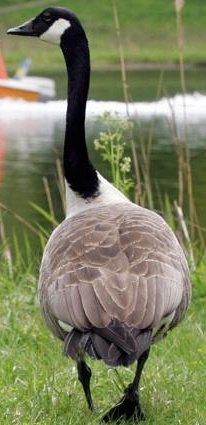goose: (4, 4, 197, 425)
